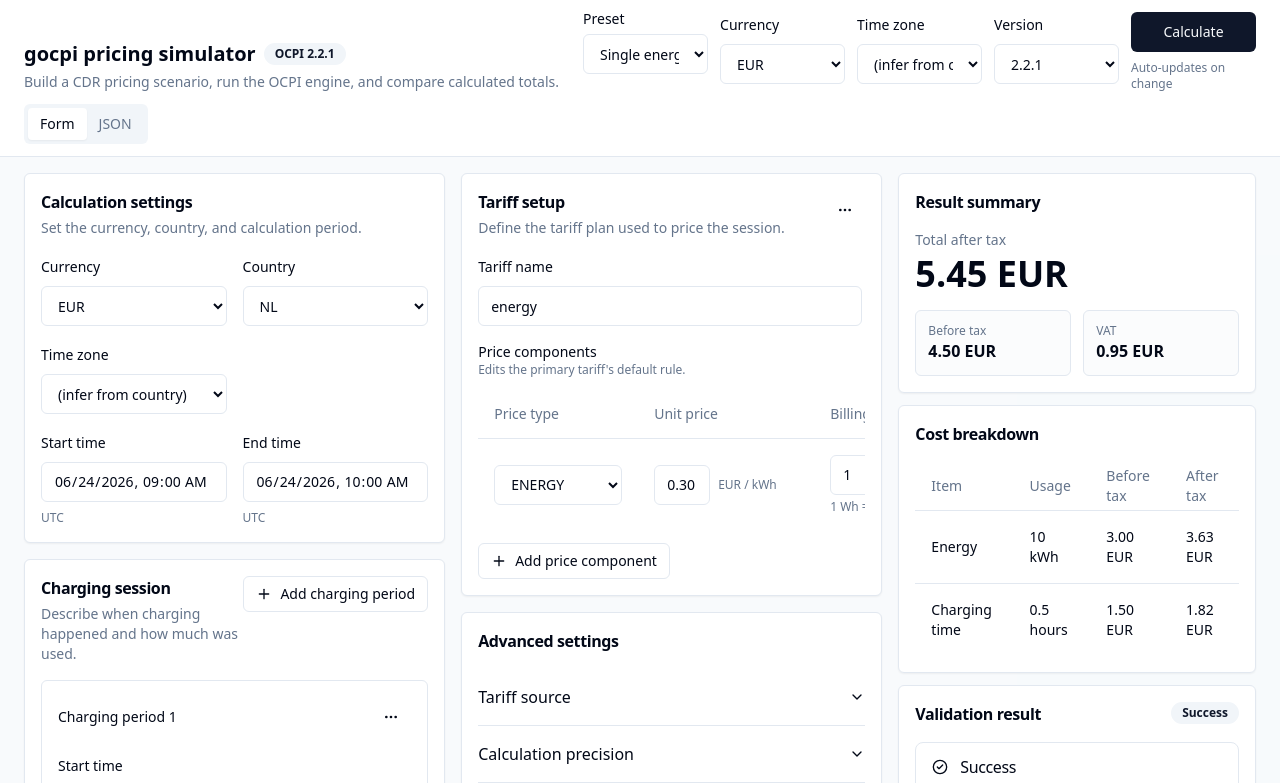
Test: App orchestration › shows calculate errors and clears prior report and verdict UI
Expected: the text "Cost breakdown" is shown, [915,423,1039,445]
Expected: the text "Validation result" is shown, [915,702,1041,726]
Select "DE" in the dropdown labelled "Country" at (335, 306), box [243,286,428,326]
Wait 300 ms
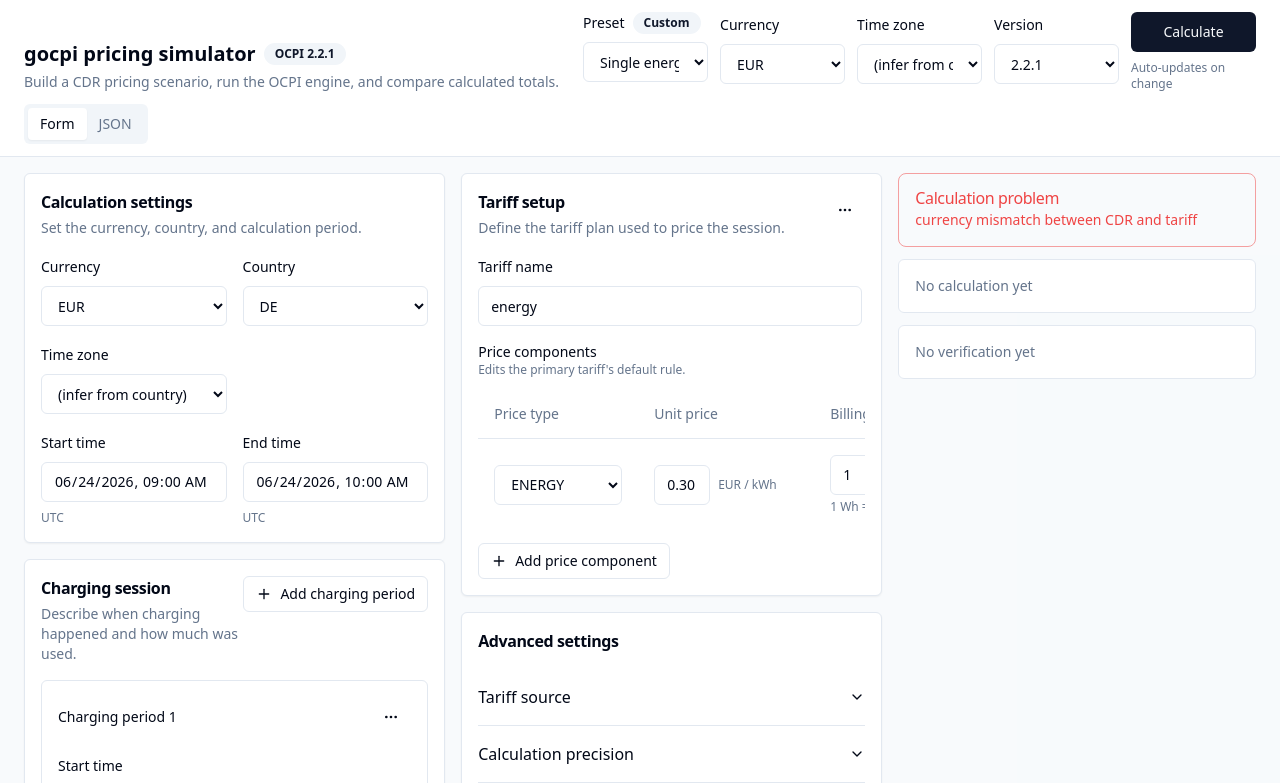
Expected: the message shows "currency mismatch between CDR and tariff", [915,210,1197,229]
Expected: the text "Cost breakdown" is gone
Expected: the text "Validation result" is gone
